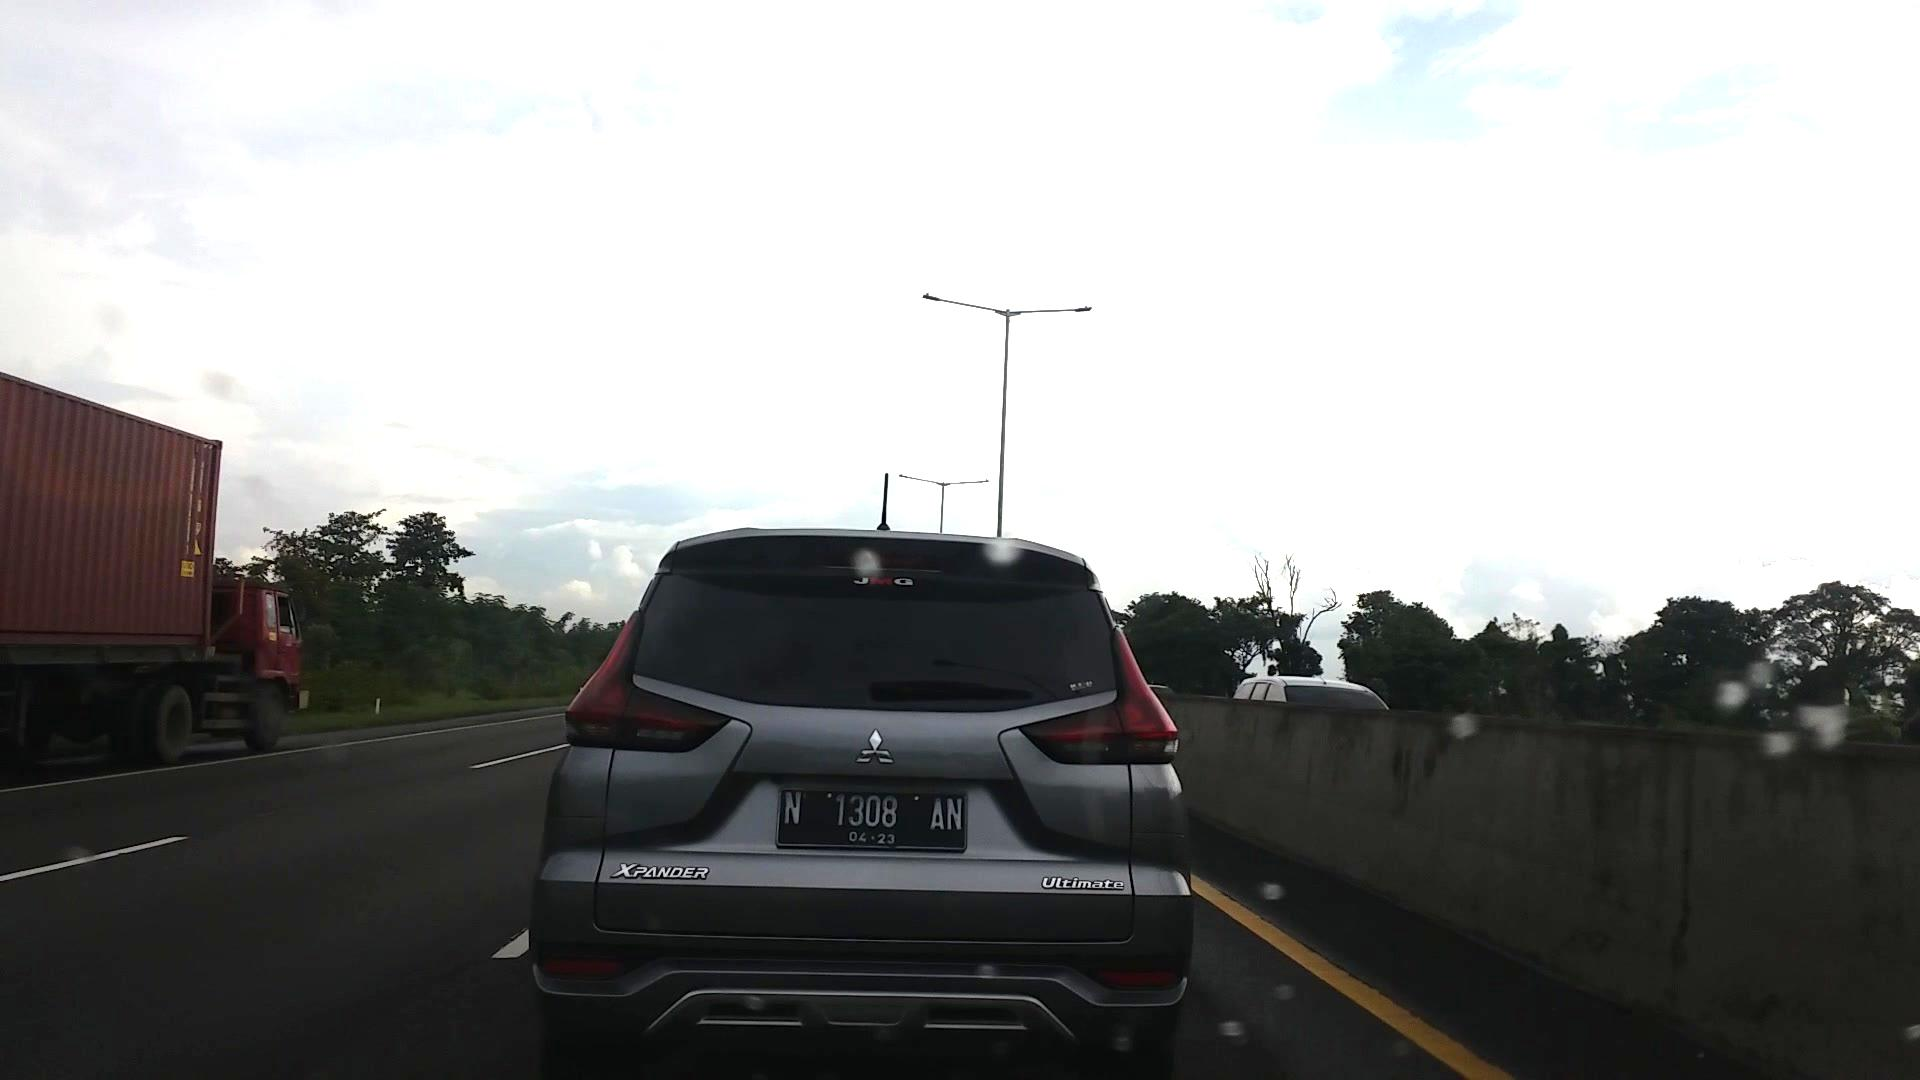plate_positive: (775, 790, 967, 852)
